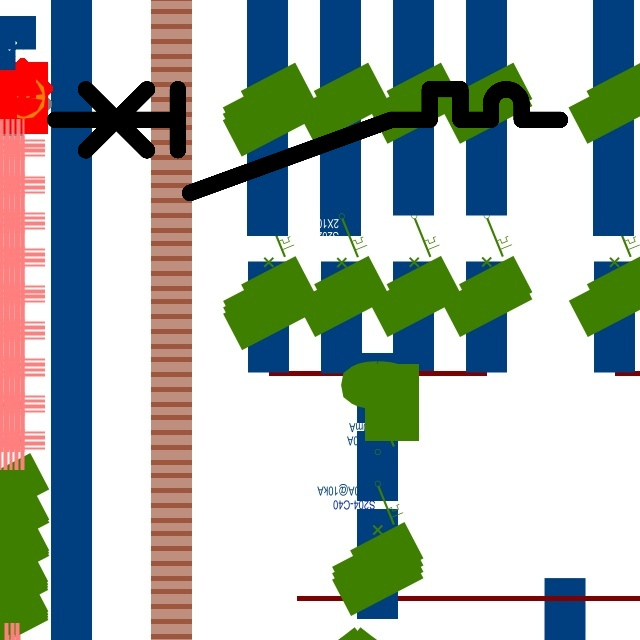interruptor_termomagnetico: (42, 76, 573, 206)
